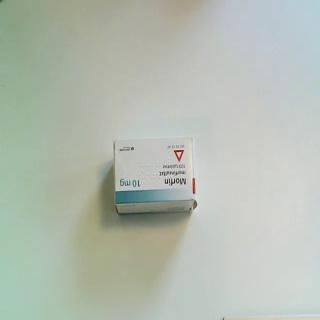morfin10mg: (113, 136, 199, 217)
